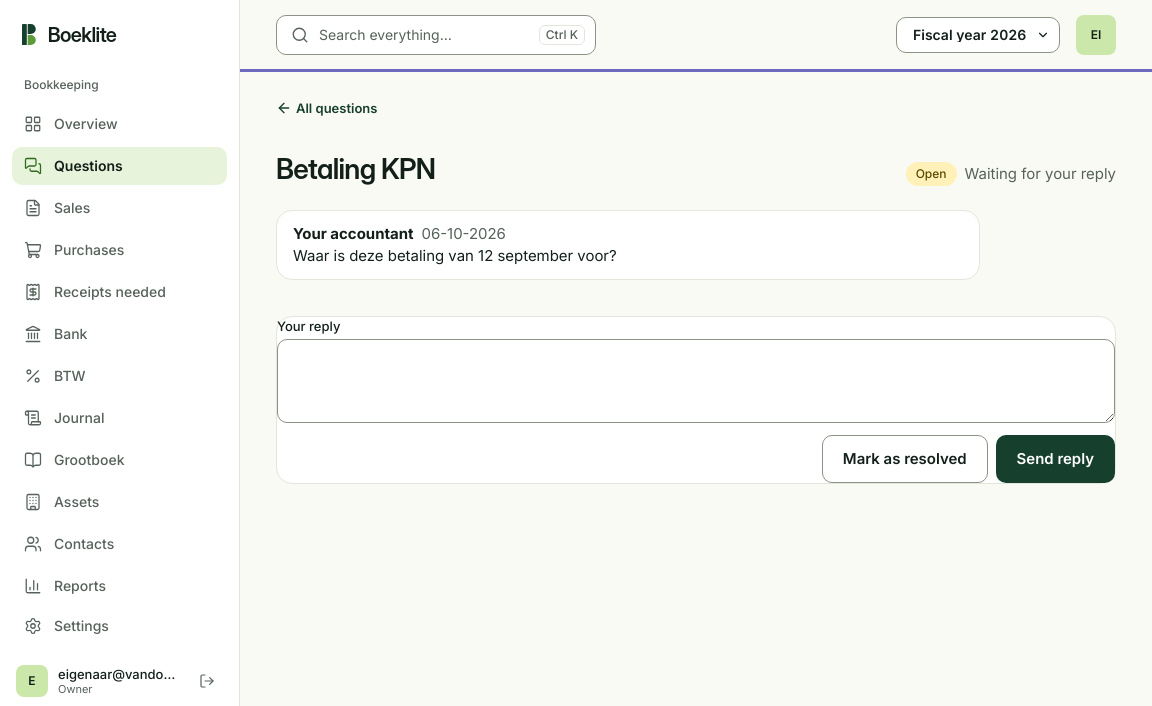
Scenario: questions inside a client › another client open in the session is explained, not shown as a bare 409
In the text box with test id "question-reply": (696, 381) x1=277 y1=339 x2=1115 y2=423, type "Hallo"
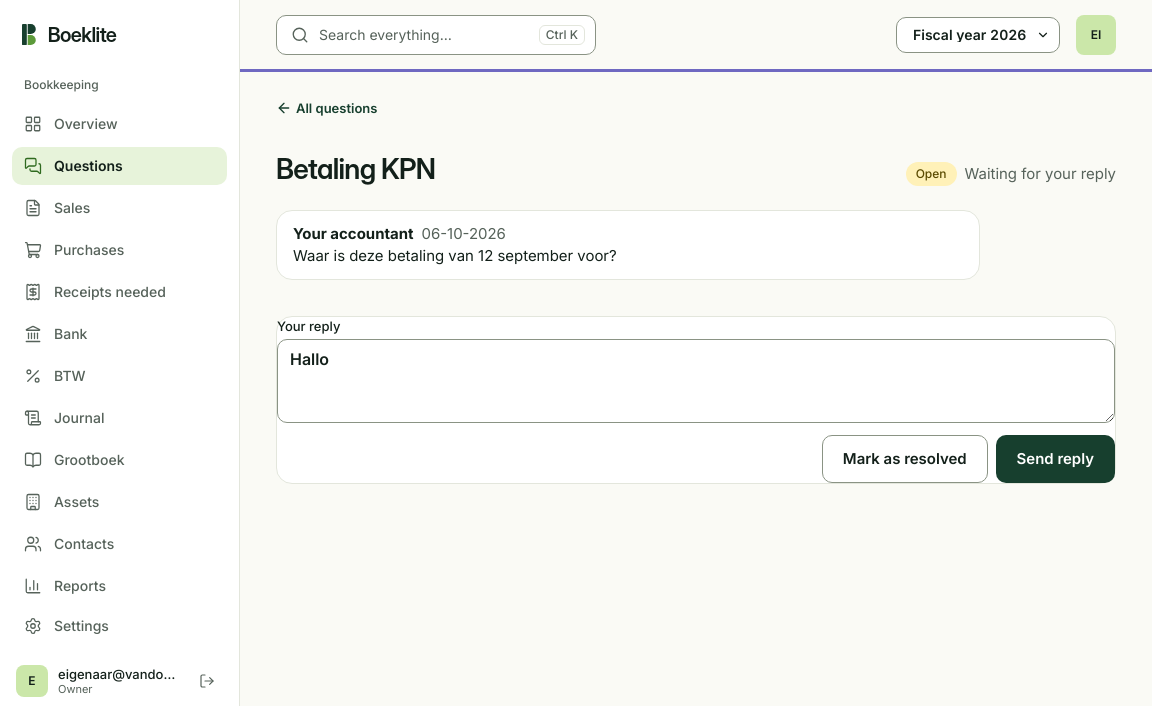
Click the button with test id "question-send": click(1055, 459) x1=996 y1=435 x2=1115 y2=483
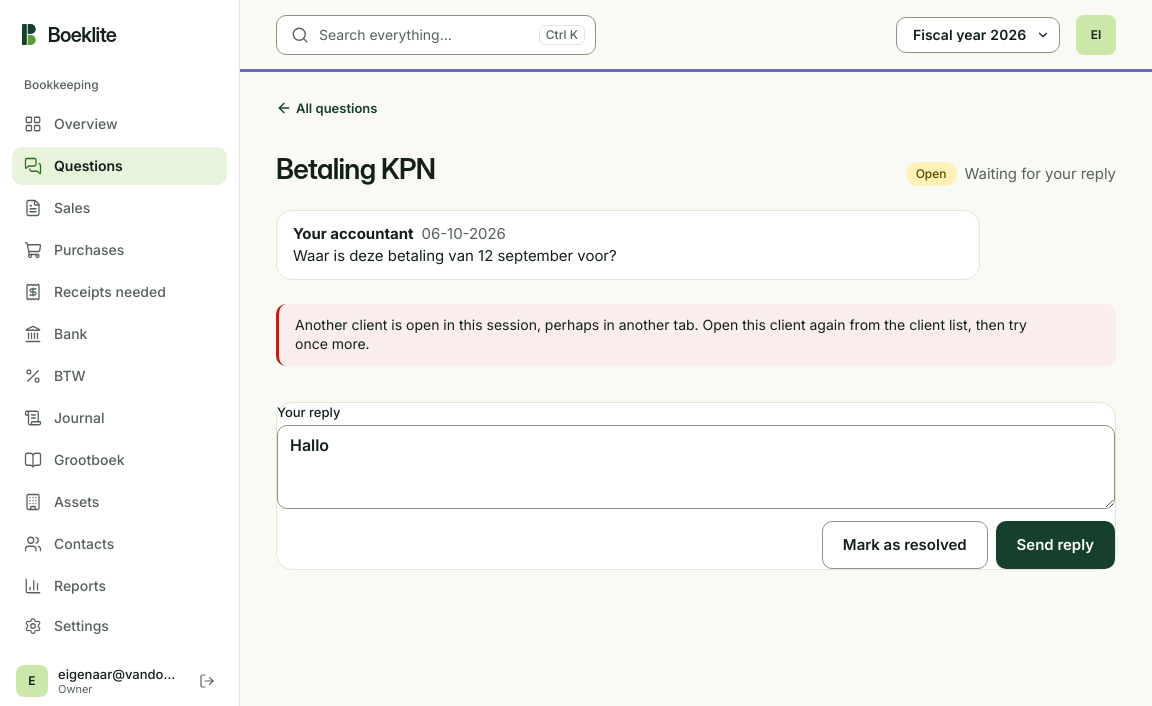
Now the message with test id "question-problem" shows "Another client is open", box x1=295 y1=316 x2=1027 y2=352
